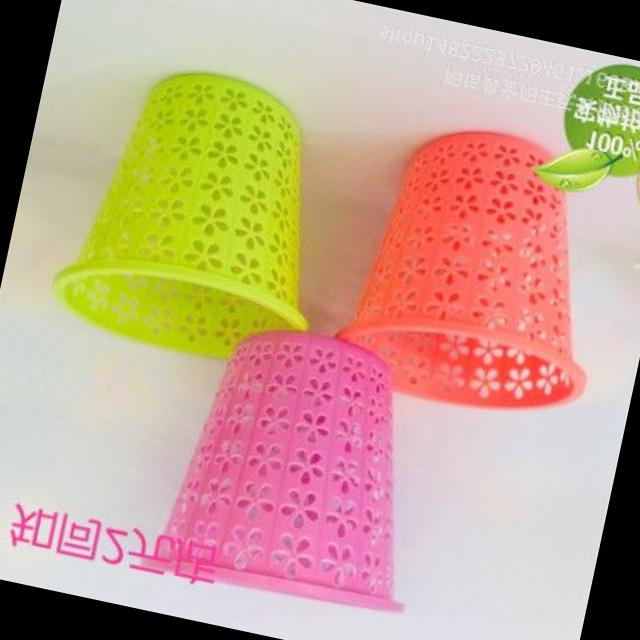dustbin: (38, 44, 360, 382), (128, 304, 459, 628), (322, 106, 636, 434)
